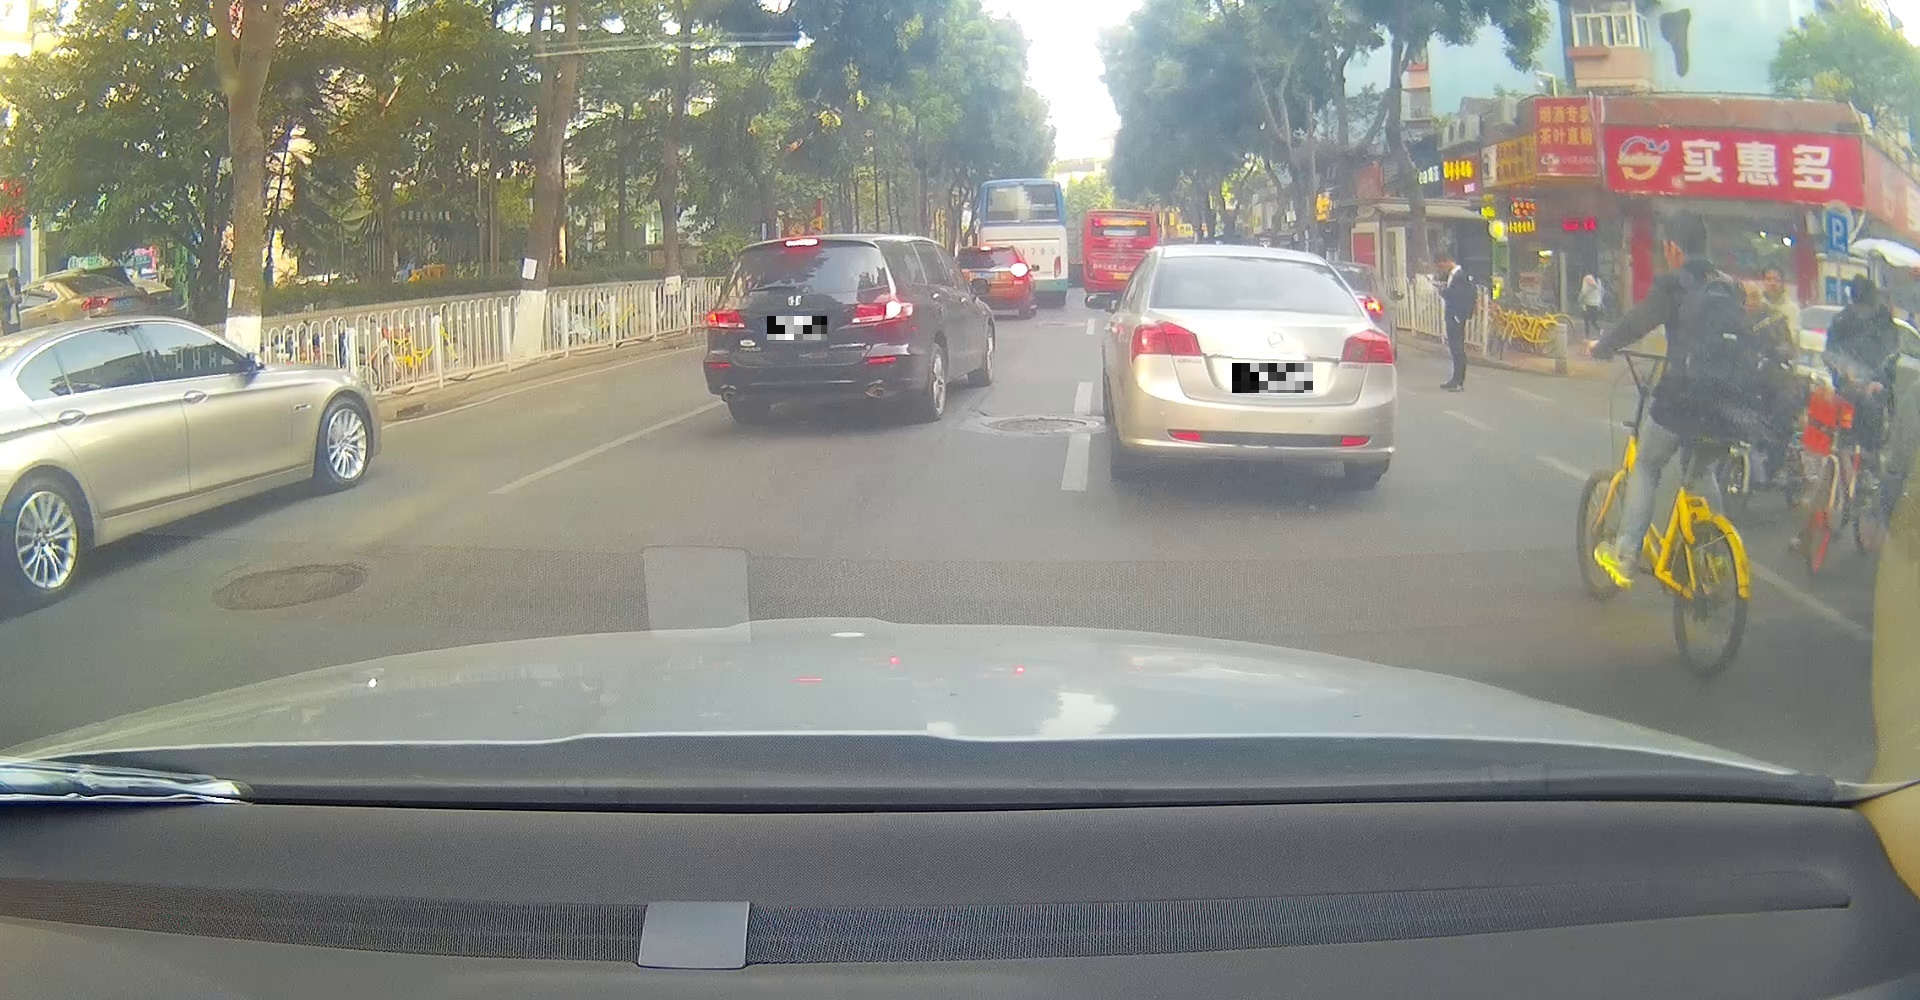L_light: (1129, 320, 1203, 364), (705, 308, 745, 329)
R_light: (1338, 327, 1394, 363), (851, 299, 913, 324)
T_light: (785, 239, 818, 246), (1233, 256, 1269, 263)
day-brake: (701, 234, 924, 423)
day-no: (1121, 245, 1397, 489)
plate_1: (767, 316, 827, 340)
plate_2: (1232, 363, 1313, 393)
